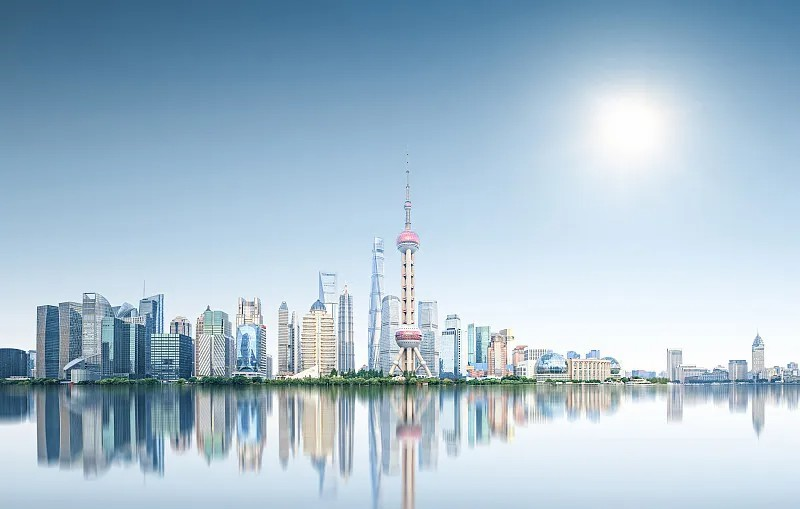Oriental: (390, 153, 433, 377)
